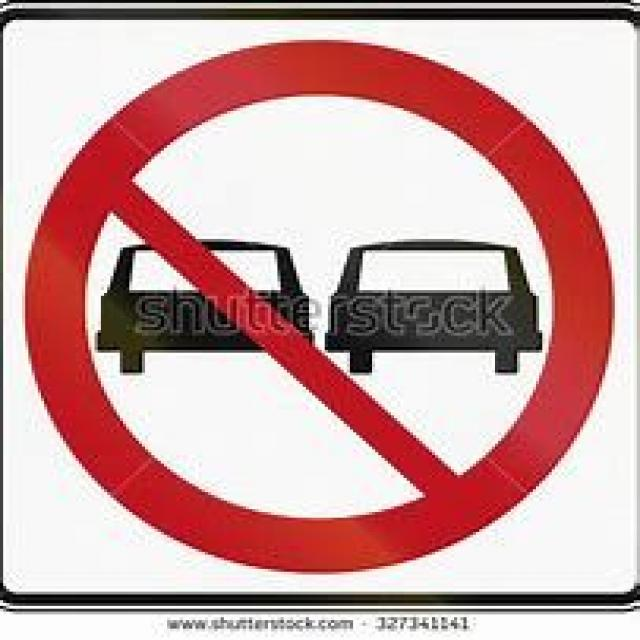OVERTAKING_PROHIBITED: (22, 40, 615, 569)
